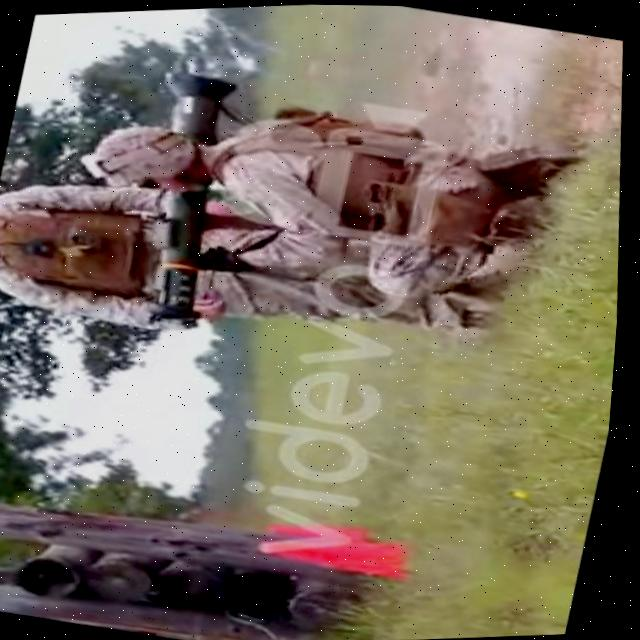rocket: (102, 59, 264, 338)
